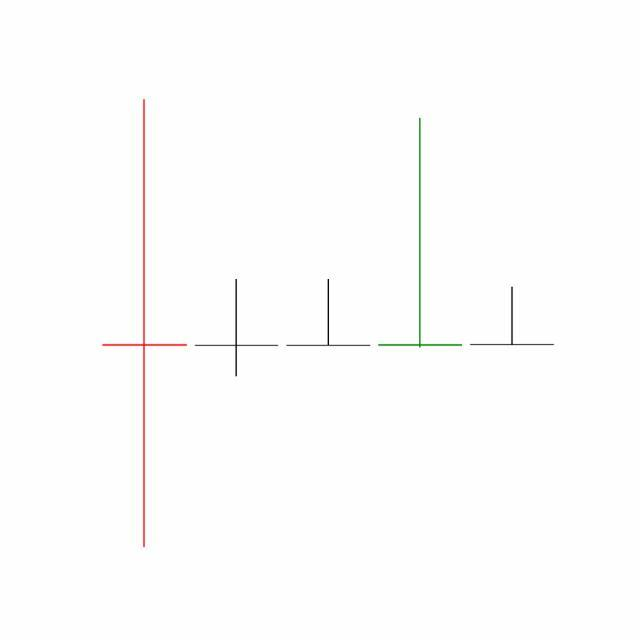Gravestone Doji: (466, 286, 559, 347)
